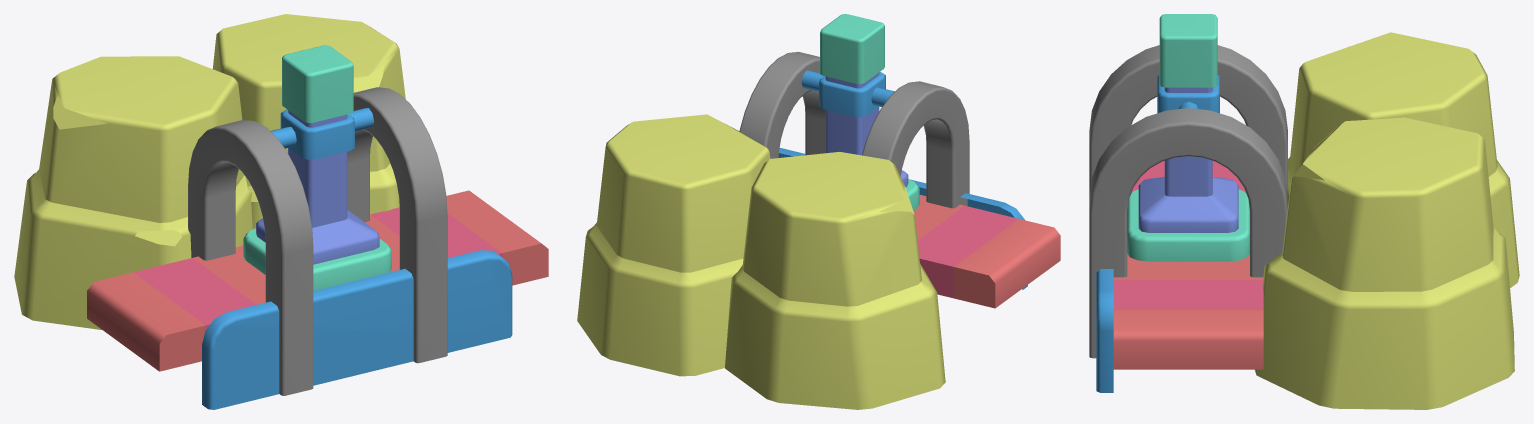
File: BrickFactory.fbx
3 views of the same model, side by side, from view 1: azimuth 30°, elevation 25°; view 2: azimuth 150°, elevation 25°; view 3: azimuth 270°, elevation 25° (orthographic). The views are drawn at different scales.
Parts seen in each view (by area): view 1: Circle.018, Circle.031; view 2: Circle.018, Circle.031; view 3: Circle.018, Circle.031.
Part boxes in pixels (box(x1,y1,x2,y2)): Circle.018: box(14, 14, 548, 409); Circle.031: box(243, 45, 391, 290); Circle.018: box(577, 51, 1060, 409); Circle.031: box(820, 14, 919, 210); Circle.018: box(1089, 32, 1519, 409); Circle.031: box(1127, 14, 1249, 261).
Size of the model in its own units: 540 by 372 by 498.
